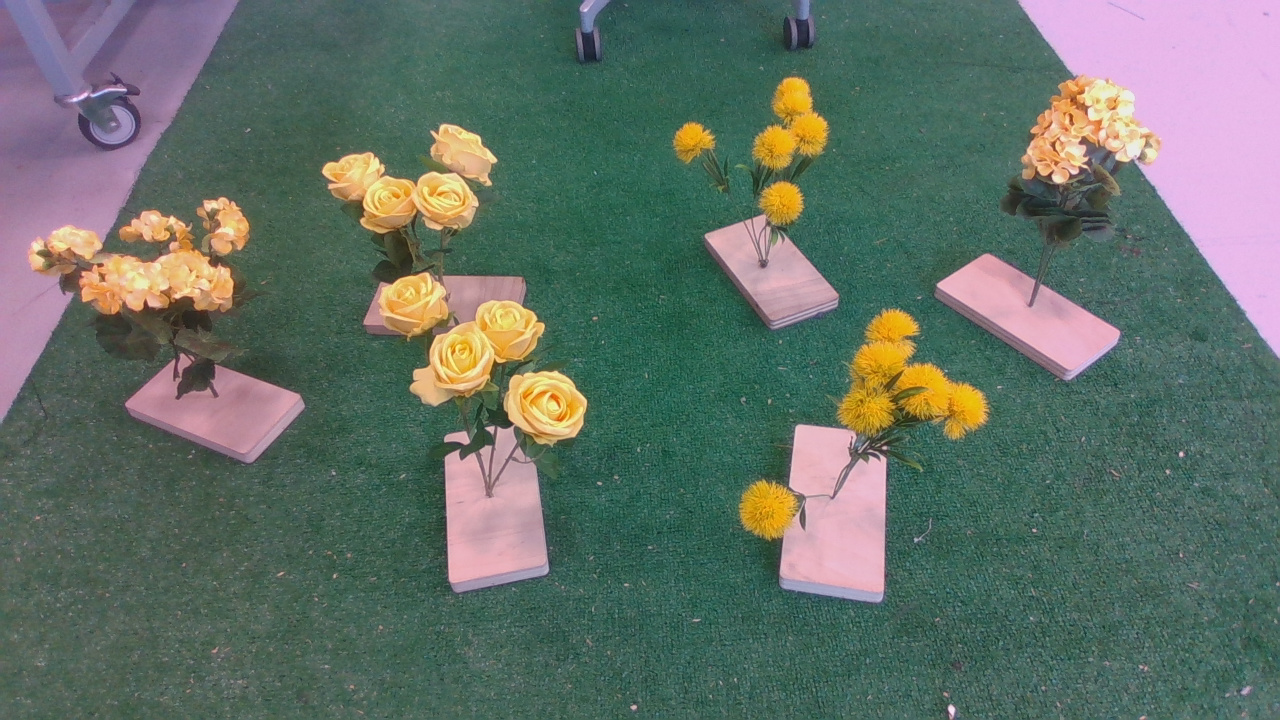dandelion: (738, 311, 997, 556), (670, 80, 859, 266)
geranium: (24, 191, 270, 409), (1003, 78, 1171, 254)
rose: (360, 278, 596, 471), (318, 122, 517, 270)
